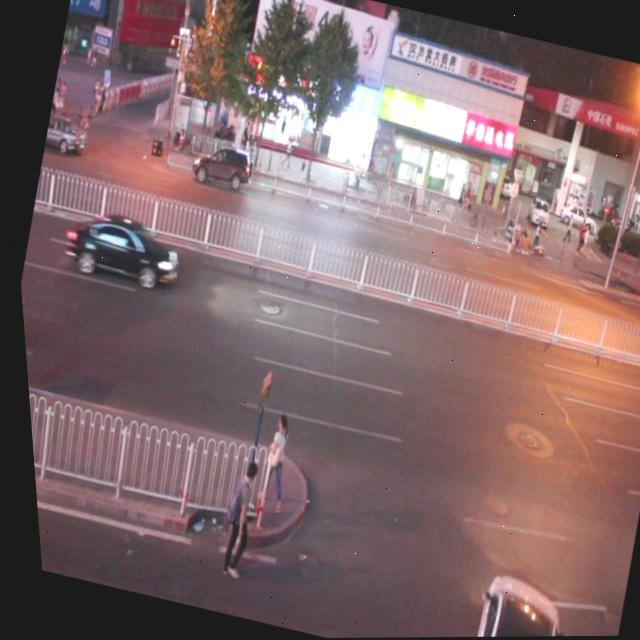car: (53, 201, 185, 294), (446, 563, 567, 638), (185, 137, 256, 195), (39, 110, 91, 160)
